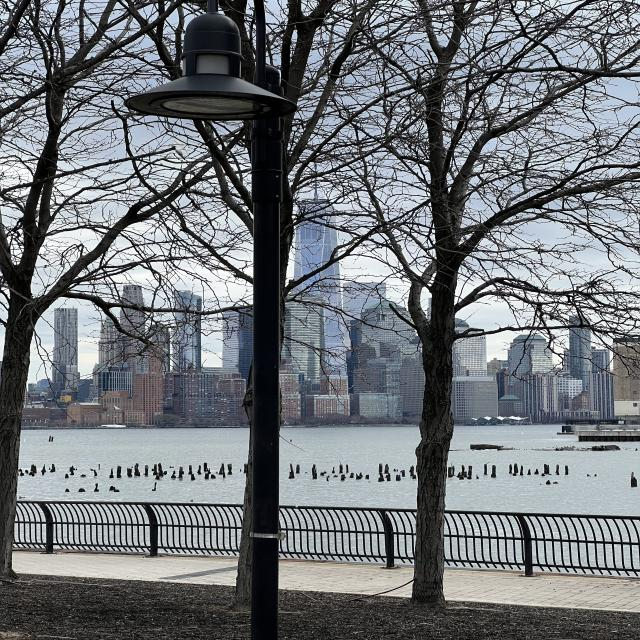WTC: (291, 152, 339, 302)
